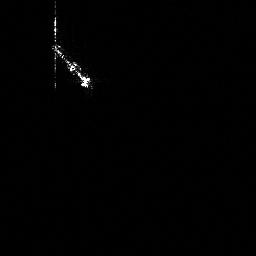ship: (49, 39, 97, 93)
